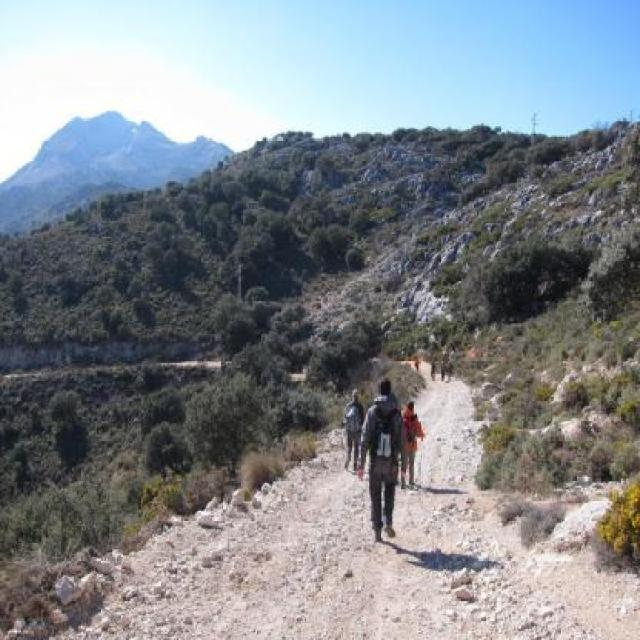backpack: (371, 403, 402, 465), (401, 414, 417, 449), (343, 403, 360, 435)
